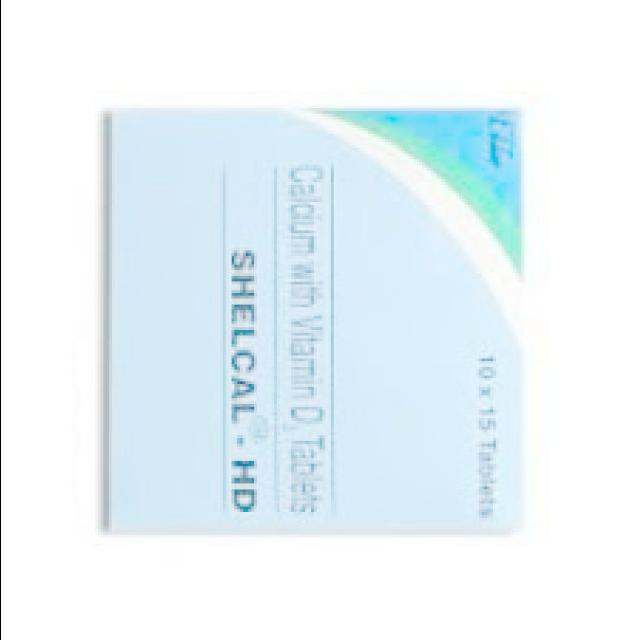authentic: (84, 94, 528, 544)
